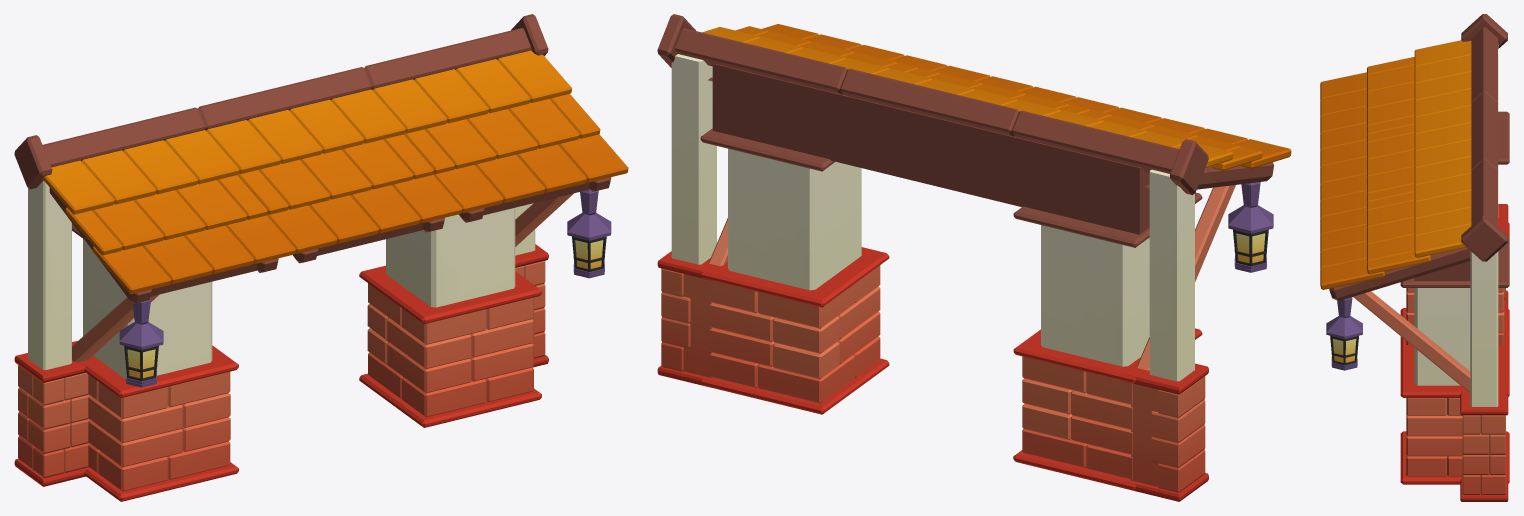
The model's file is Gate.fbx.
3 renders of one model, left to right at view 1: azimuth 30°, elevation 25°; view 2: azimuth 150°, elevation 25°; view 3: azimuth 270°, elevation 25°, orthographic. The views are drawn at different scales.
Visible parts, largest first — view 1: Gate; view 2: Gate; view 3: Gate.
Boxes of the visible parts, left/top/right/bottom form: Gate: left=14, top=14, right=628, bottom=501; Gate: left=657, top=14, right=1291, bottom=501; Gate: left=1320, top=14, right=1509, bottom=501.
Size of the model in its own units: 1116 by 709 by 431.
Materials: 1 (1 with a texture image).
